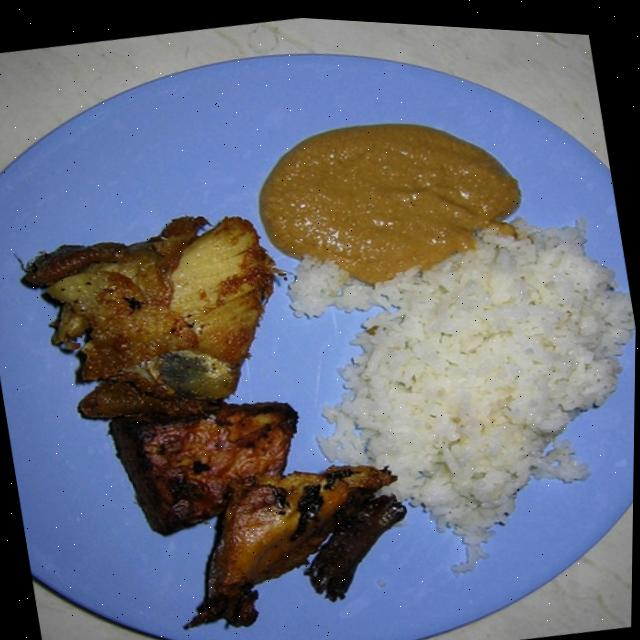米饭主食: (0, 27, 640, 640)
